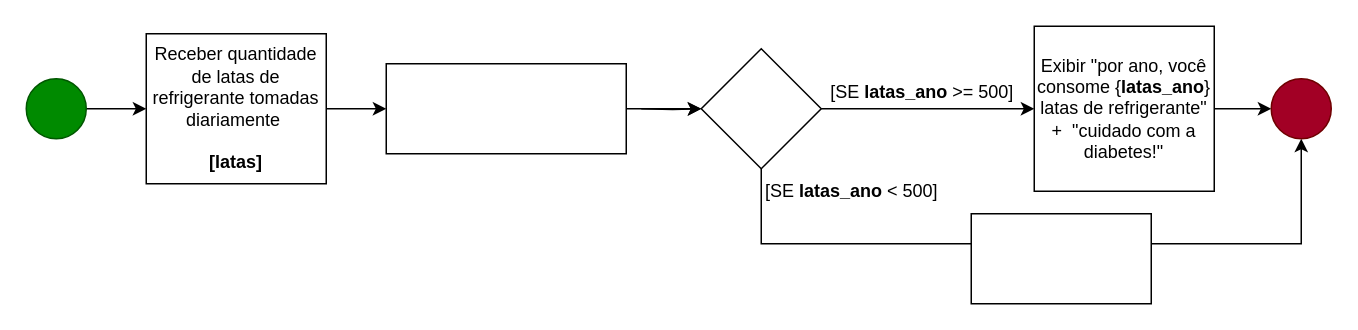
Image size: 1358x330. Some labels were removed from this diagram. Each missing label, with the centre of its shape:
Calcular quantidade consumida por ano [latas_ano] = latas * 365: (x=505, y=108)
Exibir "por ano, você consome { latas_ano } latas de refrigerante": (x=1060, y=258)
